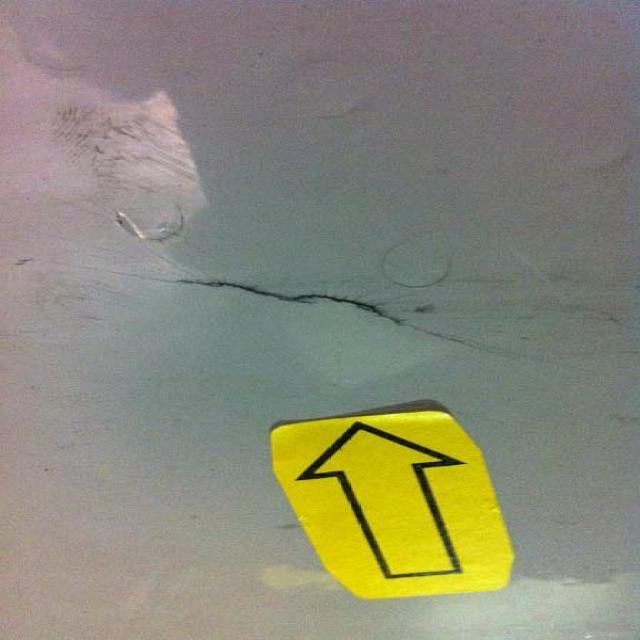crack: (136, 248, 523, 366)
